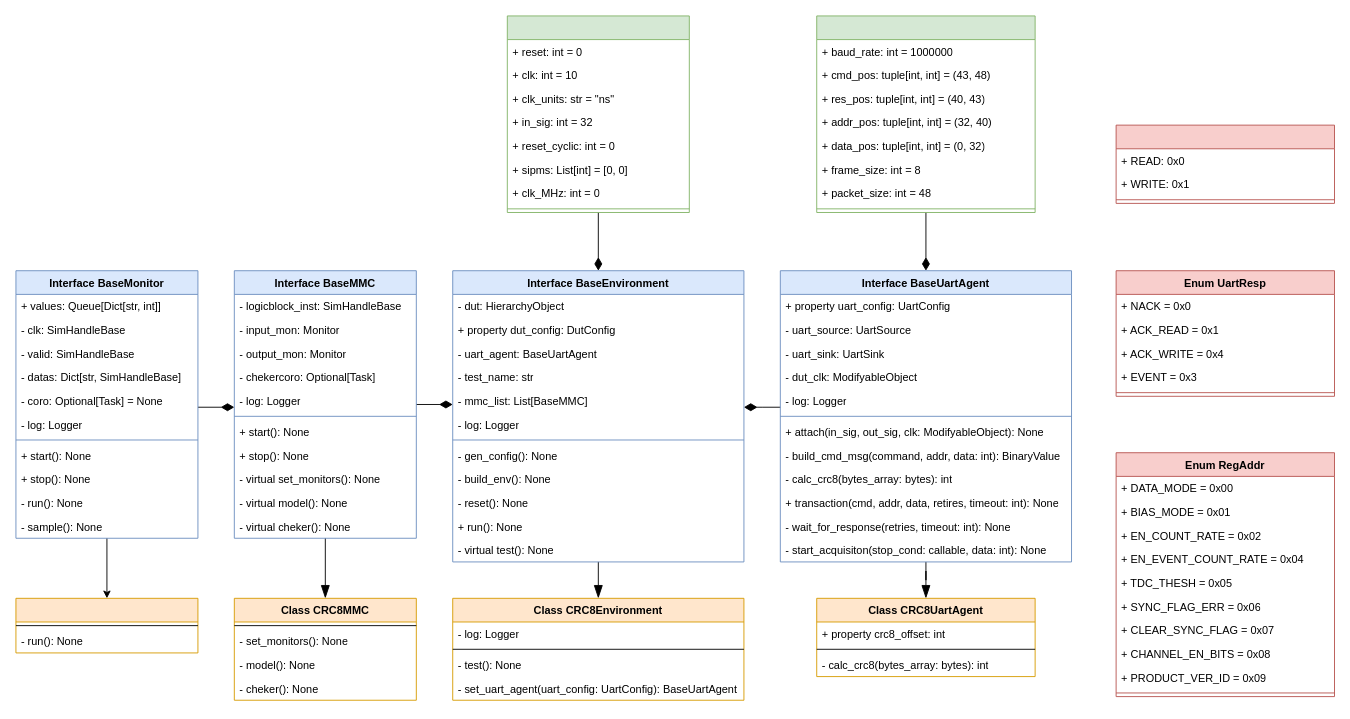
Image size: 1350x719. Some labels were removed from this diagram. The box of each missing label's shape, as (x1, y1, x2, y2) in pixels:
Class CRC8Monitor: (15, 597, 198, 653)
DataClass DutConfig: (506, 15, 689, 212)
DataClass UartConfig: (816, 15, 1035, 212)
Enum UartCmd: (1115, 124, 1335, 203)
